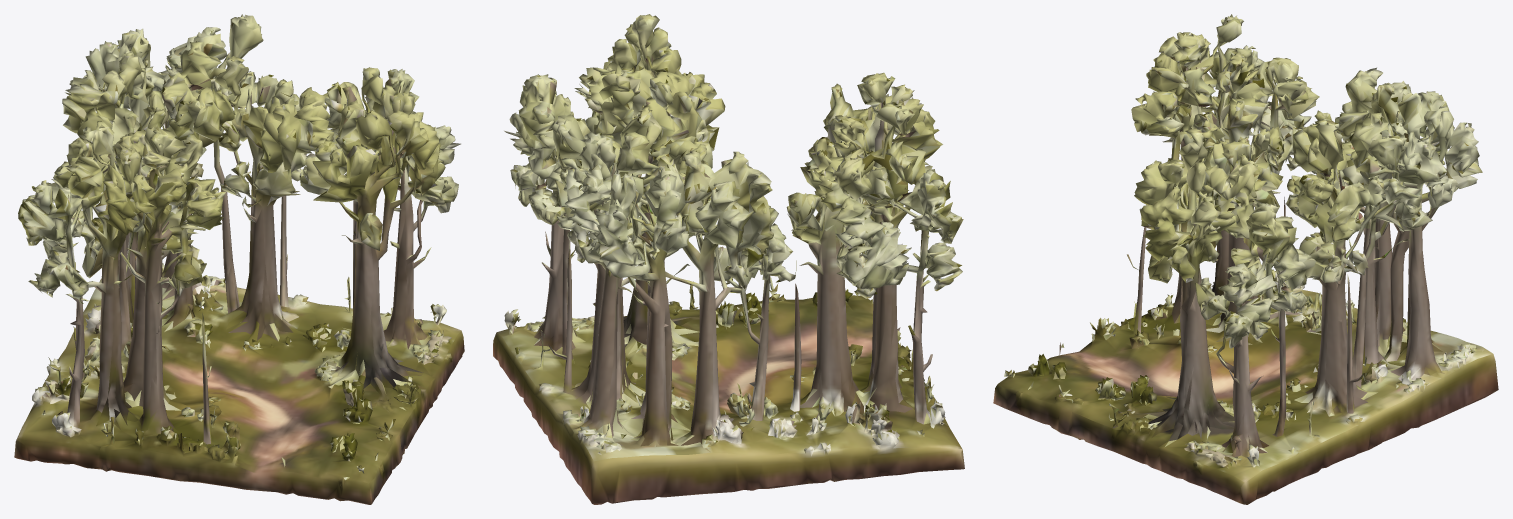
Rendered from forest.glb.
3 views of the same model, side by side, from view 1: azimuth 30°, elevation 25°; view 2: azimuth 150°, elevation 25°; view 3: azimuth 270°, elevation 25° (orthographic). The views are drawn at different scales.
Parts seen in each view (by area): view 1: world; view 2: world; view 3: world.
Boxes of the visible parts, left/top/right/bottom form: world: left=14, top=14, right=464, bottom=504; world: left=493, top=14, right=964, bottom=504; world: left=993, top=14, right=1498, bottom=504.
Size of the model in its own units: 1.92 by 1.37 by 1.94.
1 material, 1 textured.
